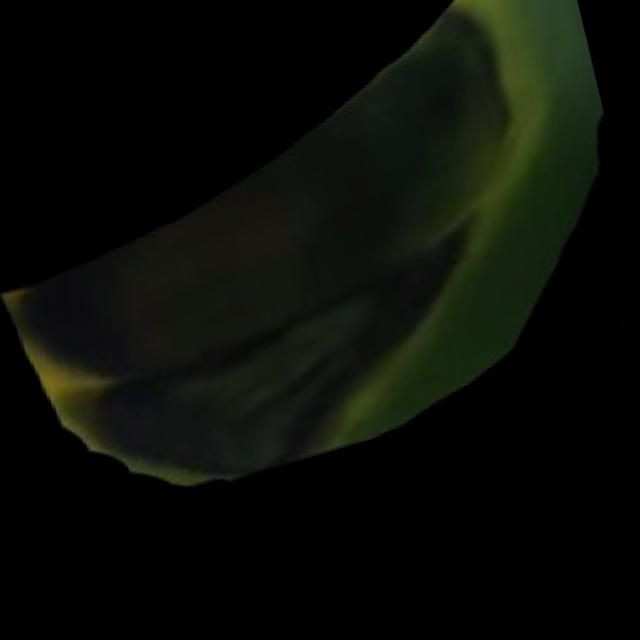mite: (329, 0, 546, 274)
